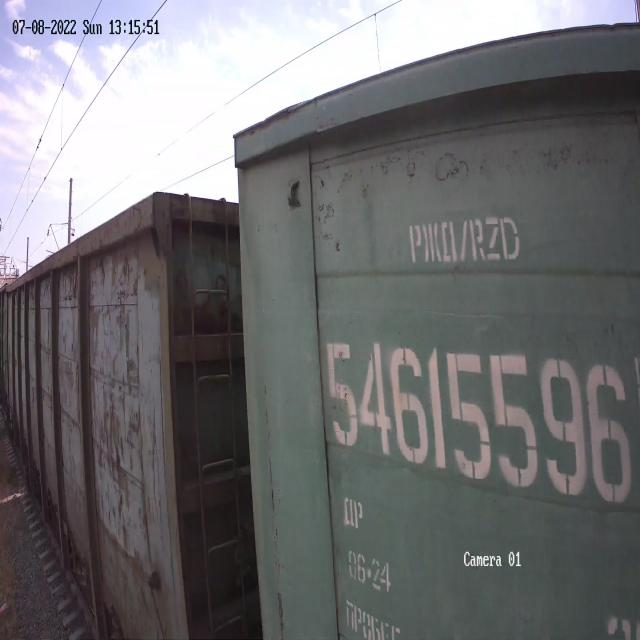gondola: (223, 18, 640, 640), (5, 174, 248, 640)
